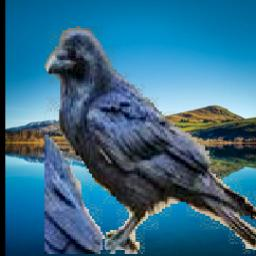Crow: (45, 27, 256, 255)
